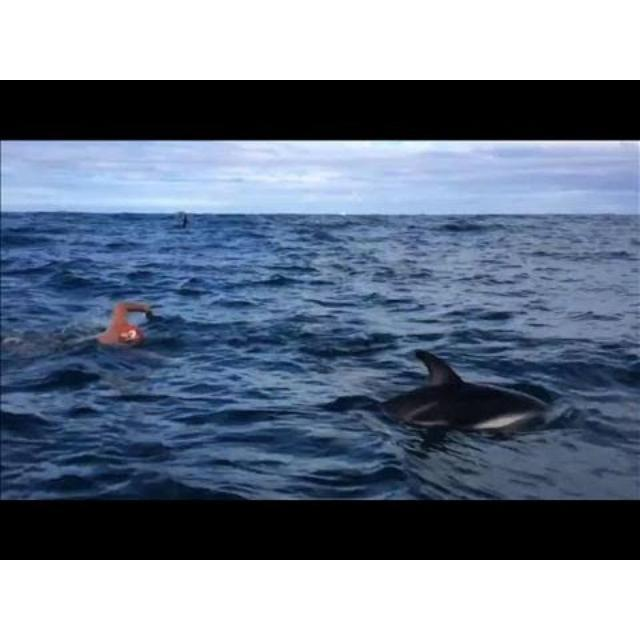human: (101, 300, 150, 346)
